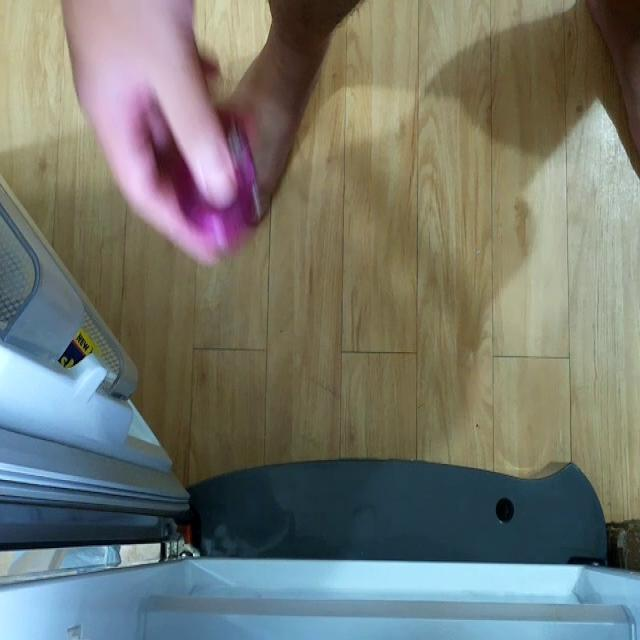onion: (165, 114, 261, 269)
